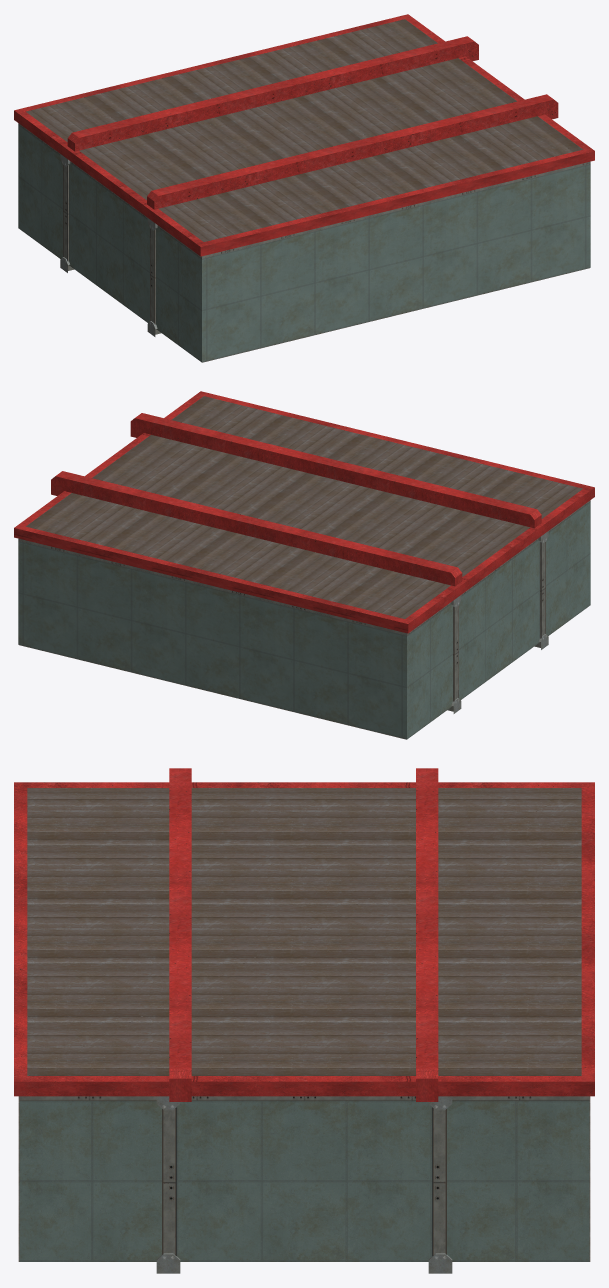
File: Ob_Building2Top_RC.fbx
The picture shows the model from 3 angles, top to bottom: view 1: azimuth 30°, elevation 25°; view 2: azimuth 150°, elevation 25°; view 3: azimuth 270°, elevation 25°; orthographic projection. The views are drawn at different scales.
Visible parts, largest first — view 1: Ob_Building2Top_RC; view 2: Ob_Building2Top_RC; view 3: Ob_Building2Top_RC.
Boxes of the visible parts, x1,y1,x2,y2 form: Ob_Building2Top_RC: [14, 14, 594, 362]; Ob_Building2Top_RC: [14, 391, 594, 739]; Ob_Building2Top_RC: [14, 768, 594, 1273].
Bounding box in the file's own units: 5369 × 1721 × 4264.
